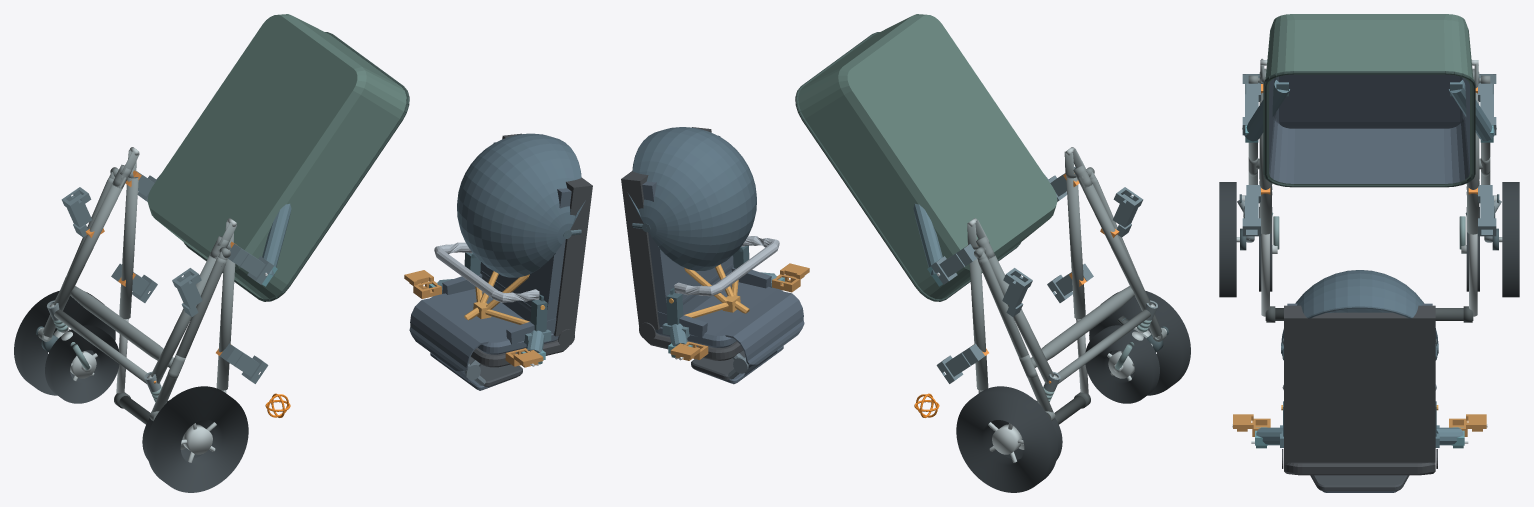
Rendered from D11_w650_state3_wheel_M.glb.
3 views of the same model, side by side, from view 1: azimuth 30°, elevation 25°; view 2: azimuth 150°, elevation 25°; view 3: azimuth 270°, elevation 25° (orthographic). The views are drawn at different scales.
Visible parts, largest first — view 1: D11_Lower, D11_Upper, RL_tire.011, FR_tire.011, RR_tire.011, main_upper_1.012, V46_rearbar.011, main_lower_1.012, V46_rear_leg_-1.011, main_upper_-1.012, main_lower_-1.012, front_fixed_round_tube.011 (+9 smaller); view 2: D11_Lower, D11_Upper, RR_tire.011, FL_tire.011, RL_tire.011, main_upper_-1.012, V46_rearbar.011, main_lower_-1.012, V46_rear_leg_1.011, main_upper_1.012, main_lower_1.012, front_fixed_round_tube.011 (+9 smaller); view 3: D11_Lower, D11_Upper, RL_tire.011, RR_tire.011, D11_Lower_Mount_M, D11_Upper_Mount_H, main_upper_1.012, main_upper_-1.012, Universal_Cabin_Receiver_H_1, Universal_Cabin_Receiver_H_-1, handle_slider_1.013, handle_slider_-1.013 (+7 smaller).
Boxes of the visible parts, box(x1,y1,x2,y2) form: D11_Lower: box(147, 14, 409, 301); D11_Upper: box(409, 133, 592, 390); RL_tire.011: box(146, 386, 248, 492); FR_tire.011: box(45, 325, 119, 403); RR_tire.011: box(14, 291, 115, 395); main_upper_1.012: box(119, 177, 138, 319); V46_rearbar.011: box(70, 286, 173, 367); main_lower_1.012: box(53, 177, 125, 310); V46_rear_leg_-1.011: box(152, 257, 226, 412); main_upper_-1.012: box(216, 249, 235, 390); main_lower_-1.012: box(151, 255, 218, 383); front_fixed_round_tube.011: box(54, 309, 147, 383); D11_Lower: box(795, 14, 1057, 301); D11_Upper: box(621, 127, 804, 384); RR_tire.011: box(956, 386, 1058, 492); FL_tire.011: box(1085, 325, 1159, 403); RL_tire.011: box(1089, 291, 1190, 395); main_upper_-1.012: box(1066, 177, 1085, 319); V46_rearbar.011: box(1031, 286, 1134, 367); main_lower_-1.012: box(1078, 177, 1151, 310); V46_rear_leg_1.011: box(978, 257, 1052, 412); main_upper_1.012: box(969, 249, 988, 390); main_lower_1.012: box(986, 255, 1053, 383); front_fixed_round_tube.011: box(1057, 309, 1150, 383); D11_Lower: box(1263, 14, 1475, 187); D11_Upper: box(1281, 270, 1438, 492); RL_tire.011: box(1219, 182, 1236, 297); RR_tire.011: box(1502, 182, 1519, 297); D11_Lower_Mount_M: box(1242, 80, 1496, 142); D11_Upper_Mount_H: box(1251, 425, 1468, 448); main_upper_1.012: box(1467, 93, 1479, 234); main_upper_-1.012: box(1259, 93, 1271, 234); Universal_Cabin_Receiver_H_1: box(1478, 185, 1496, 236); Universal_Cabin_Receiver_H_-1: box(1242, 185, 1260, 236); handle_slider_1.013: box(1469, 234, 1477, 316); handle_slider_-1.013: box(1261, 234, 1269, 316).
Bounding box in the file's own units: 1.53 × 1.12 × 0.781.
